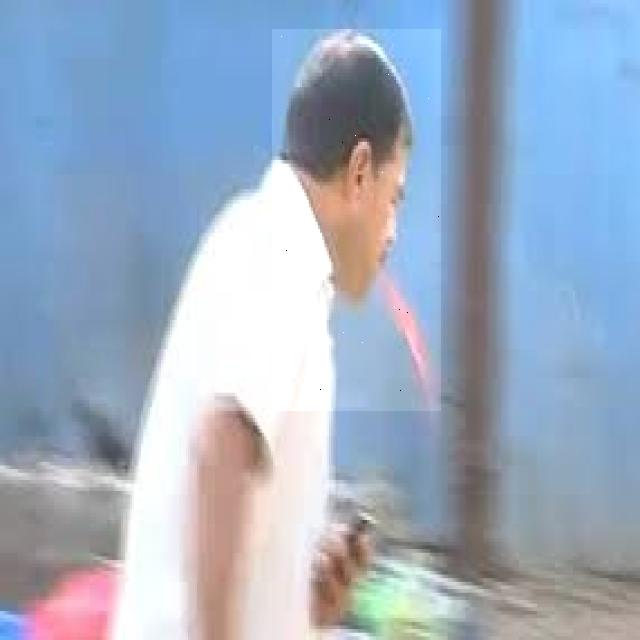Spitting: (272, 29, 441, 411)
